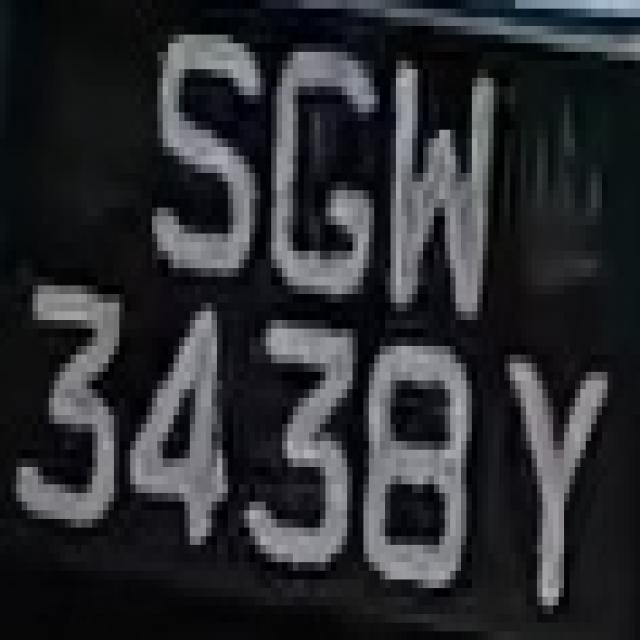3: (5, 242, 120, 545), (255, 294, 358, 580)
4: (114, 286, 255, 562)
8: (347, 311, 483, 597)
G: (260, 26, 380, 311)
S: (114, 26, 266, 285)
W: (374, 26, 504, 337)
Y: (494, 328, 618, 622)
